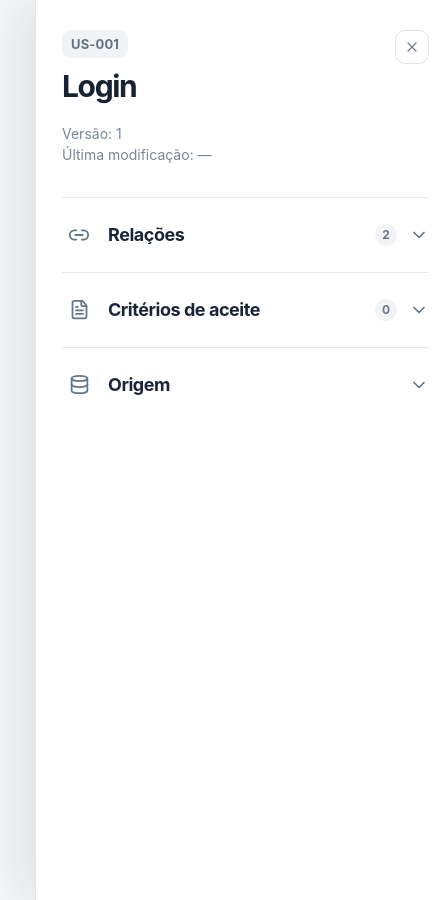
RequirementDrawer relations › shows every old relation for the same pair and explains why the US repeats
Click the button "Relações 2" at point(146, 234), box [62,198,429,272]
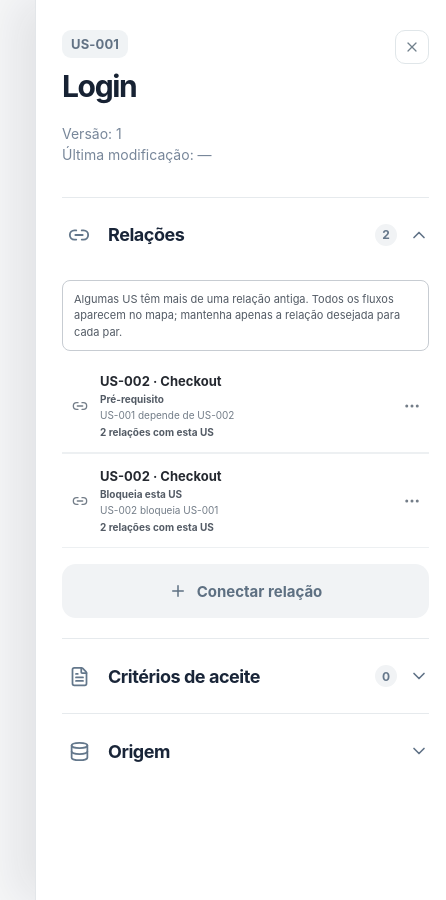
Now the number of elements with class "relation-row" is 2, box [62,359,429,453]; [62,453,429,548]
Now the message with class "relation-legacy-notice" shows "mais de uma relação antiga", box [74,292,400,338]
Now the number of elements with class "relation-legacy-badge" is 2, box [100,426,214,438]; [100,521,214,533]
